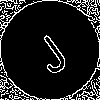J: (25, 25, 72, 77)
